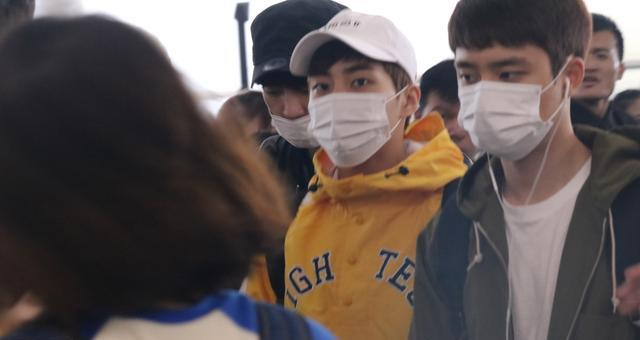NONE: (572, 34, 620, 98)
OK: (309, 58, 413, 162), (456, 55, 554, 153)
WRONG: (265, 77, 339, 151)
